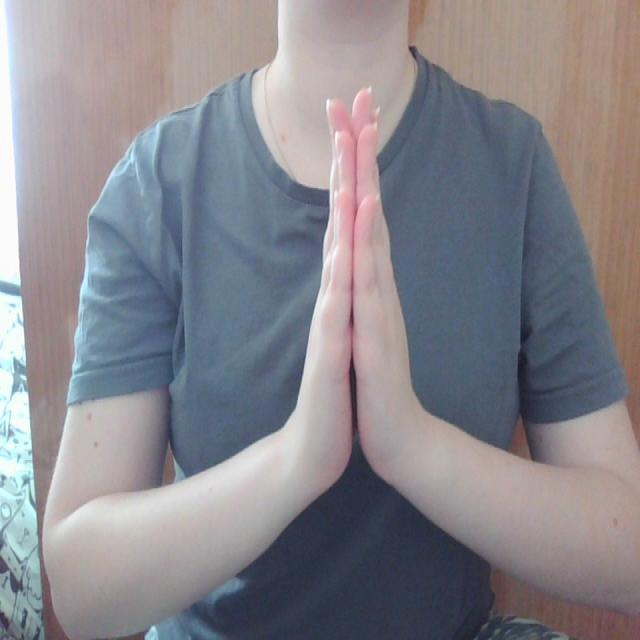Ozur-Dilemek: (282, 84, 432, 513)
